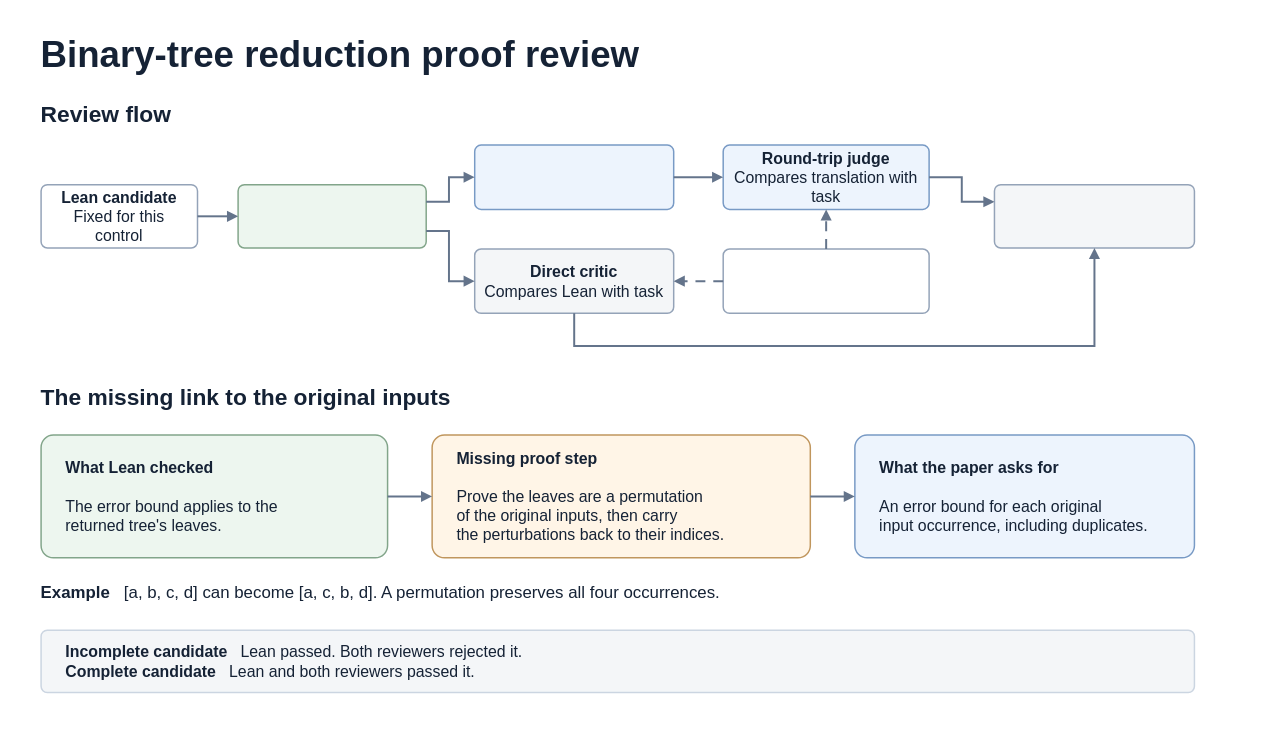
The diagram is 1261 pixels wide and 741 high, and some of its shapes have lost their labels. Each missing label, with the box of its shape:
Blind translator Restates theorem and definitions: (474, 144, 674, 210)
Controller Uses both verdicts: (993, 183, 1195, 248)
Lean verification Checks the stated theorem: (237, 183, 426, 248)
Original task: (722, 248, 929, 314)
